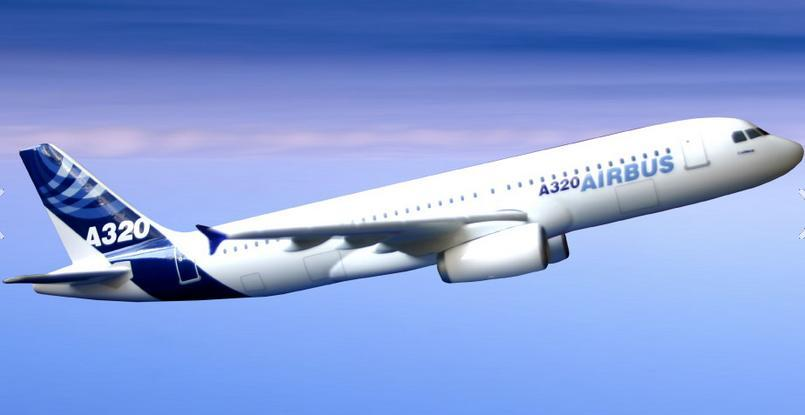airplane: (7, 91, 805, 304)
